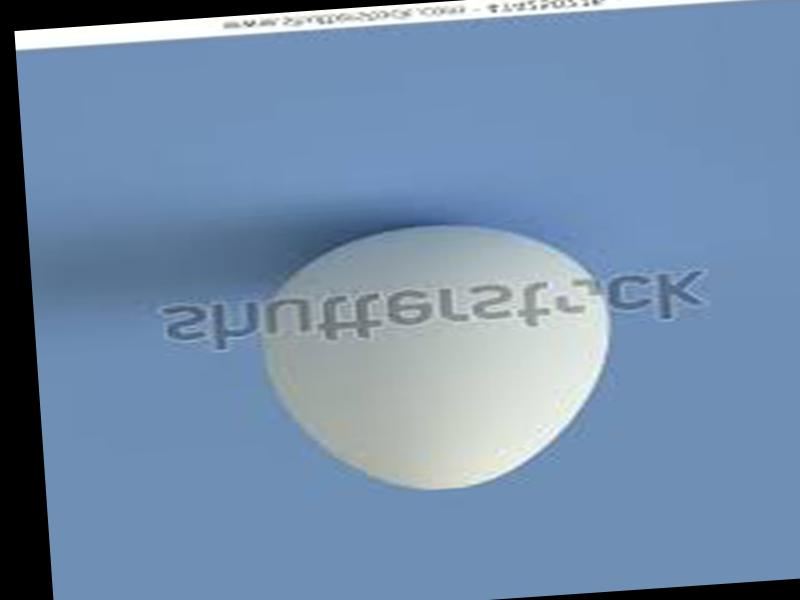Eggs: (254, 211, 621, 500)
